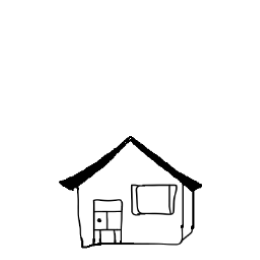bottom_placed_house: (2, 1, 260, 260)
door: (89, 196, 126, 249)
open_window: (128, 181, 179, 218)
roof: (57, 134, 204, 197)
small_house: (5, 13, 260, 260)
wall: (73, 174, 187, 252)
